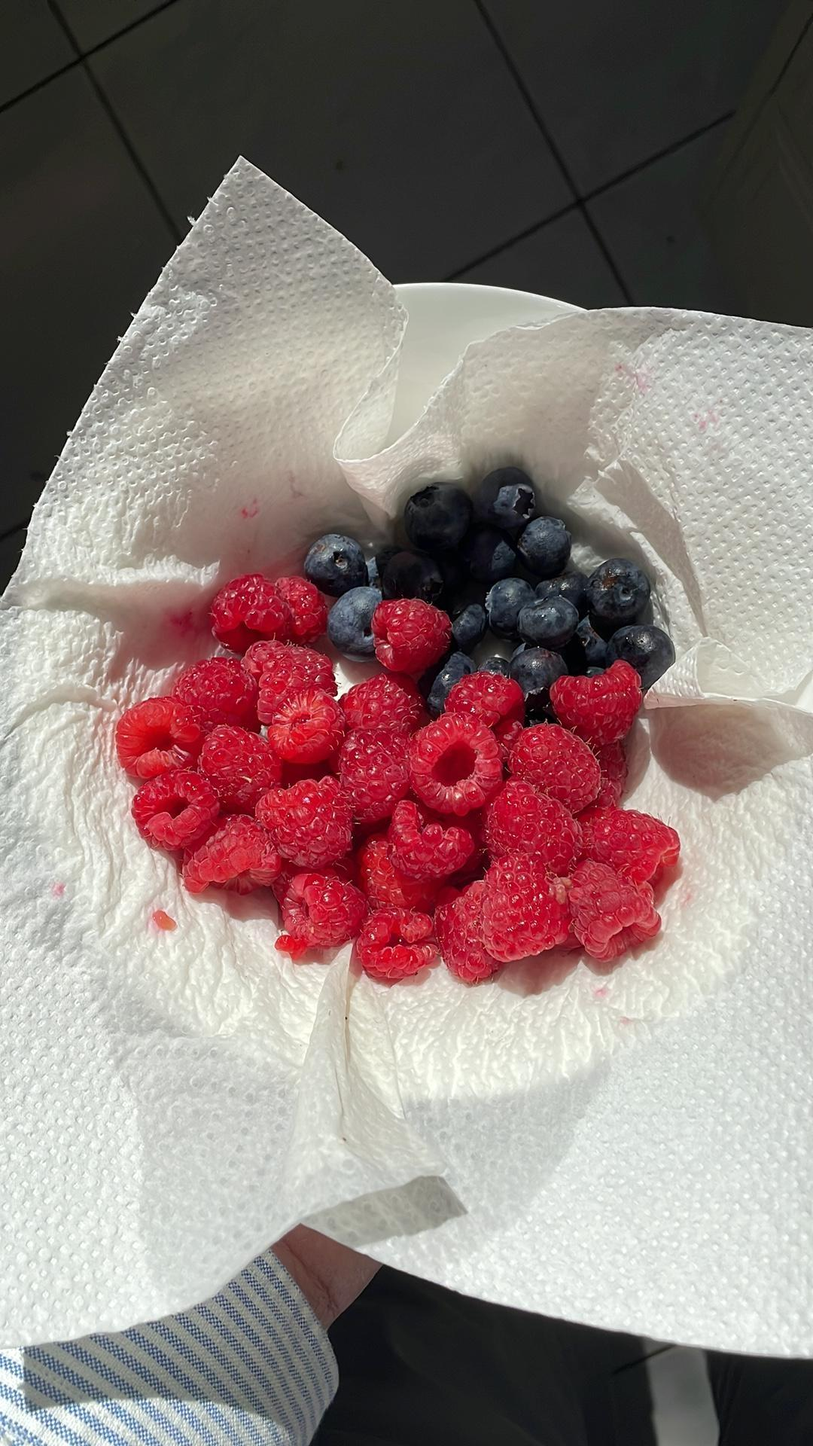blueberry: (589, 557, 650, 628), (326, 583, 379, 660), (410, 482, 473, 546), (304, 530, 368, 590), (520, 514, 575, 580), (612, 626, 672, 683), (511, 646, 566, 707), (518, 595, 585, 645), (479, 467, 533, 528), (461, 526, 518, 582), (385, 549, 444, 601), (489, 575, 535, 637), (566, 612, 614, 662), (451, 597, 486, 649)
raspberry: (408, 712, 501, 812), (483, 776, 574, 875), (339, 727, 426, 825), (582, 804, 684, 887), (572, 860, 660, 955), (183, 816, 283, 899), (486, 857, 568, 956), (264, 779, 349, 868), (507, 722, 596, 803), (117, 696, 200, 780), (555, 665, 634, 749), (128, 767, 214, 842), (434, 879, 500, 973), (209, 733, 291, 807), (169, 657, 252, 730), (247, 639, 329, 712), (373, 595, 452, 669), (215, 574, 292, 648), (451, 670, 524, 747), (270, 689, 345, 763), (335, 673, 425, 734), (286, 874, 362, 946), (364, 909, 437, 978), (365, 834, 427, 911), (393, 806, 463, 874), (278, 573, 321, 644)
